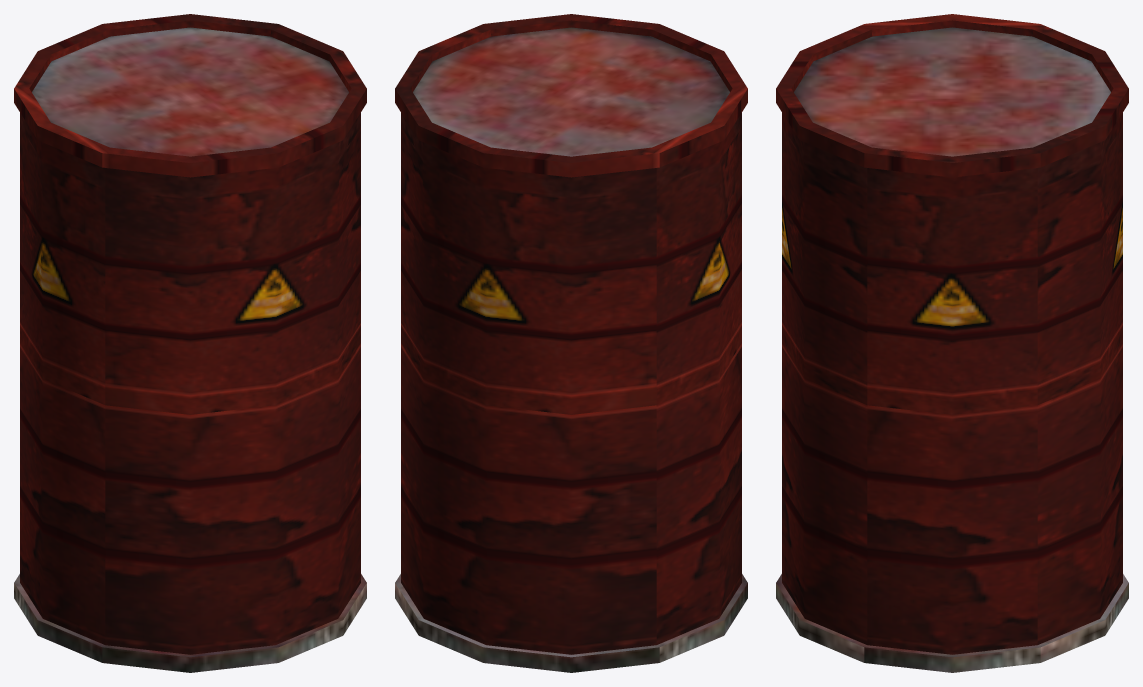
Rendered from modular-containers-and-barrells-pack-game-ready-cylinder-003-331.glb.
The picture shows the model from 3 angles, left to right: view 1: azimuth 30°, elevation 25°; view 2: azimuth 150°, elevation 25°; view 3: azimuth 270°, elevation 25°; orthographic projection.
Visible parts, largest first — view 1: Cylinder.003_331; view 2: Cylinder.003_331; view 3: Cylinder.003_331.
Boxes of the visible parts, x1,y1,x2,y2 form: Cylinder.003_331: [14, 14, 366, 672]; Cylinder.003_331: [395, 14, 747, 672]; Cylinder.003_331: [776, 14, 1128, 672].
Bounding box in the file's own units: 0.8278 × 1.32 × 0.8278.
1 material, 1 textured.
